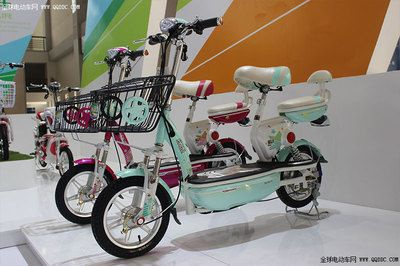non-vehicle: (90, 31, 334, 254), (50, 51, 254, 219)
